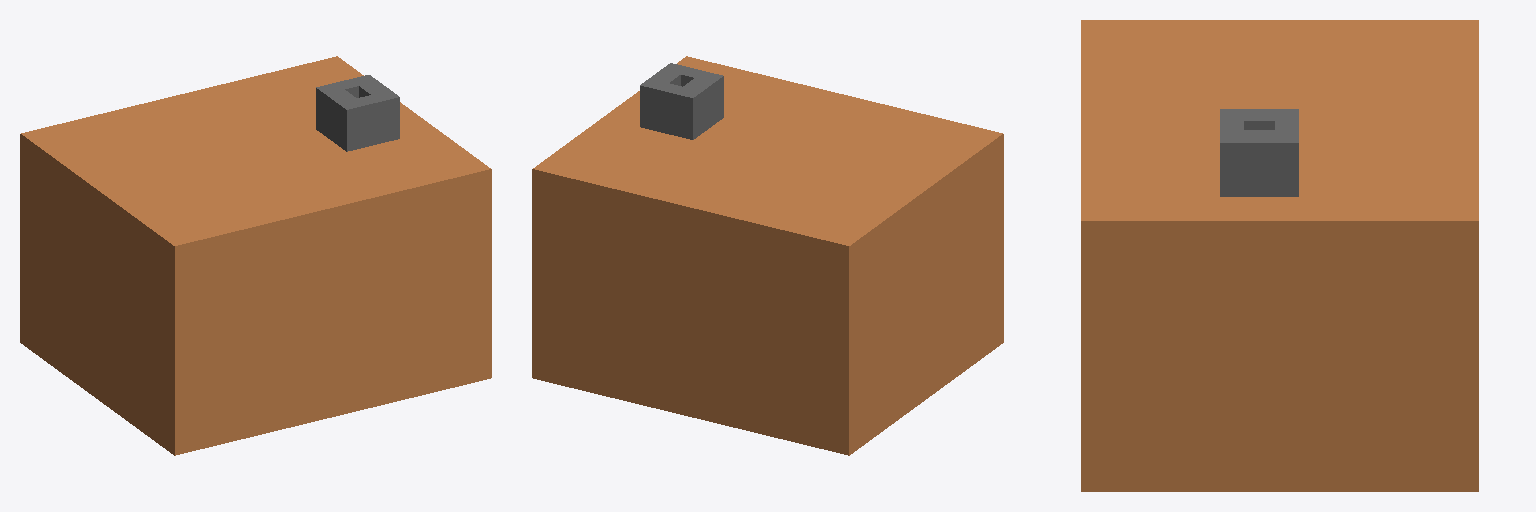
robot.urdf — peg_in_hole_scene_0014_tol04:
<?xml version="1.0"?>
<robot name="peg_in_hole_scene_0014_tol04">
  <material name="wood"><color rgba="0.82 0.56 0.35 1.0"/></material>
  <material name="hole_grey"><color rgba="0.4706 0.4706 0.4706 1.0"/></material>
  <link name="box">
    <visual>
      <origin xyz="0.000000 0.000000 0.000000" rpy="0 0 0"/>
      <geometry><box size="0.475000 0.400000 0.300000"/></geometry>
      <material name="wood"/>
    </visual>
    <collision>
      <origin xyz="0.000000 0.000000 0.000000" rpy="0 0 0"/>
      <geometry><box size="0.475000 0.400000 0.300000"/></geometry>
    </collision>
    <visual>
      <origin xyz="0.140983 -0.020629 0.155000" rpy="0 0 0"/>
      <geometry><box size="0.080000 0.080000 0.010000"/></geometry>
      <material name="hole_grey"/>
    </visual>
    <collision>
      <origin xyz="0.140983 -0.020629 0.155000" rpy="0 0 0"/>
      <geometry><box size="0.080000 0.080000 0.010000"/></geometry>
    </collision>
    <visual>
      <origin xyz="0.166283 -0.020629 0.185000" rpy="0 0 0"/>
      <geometry><box size="0.029400 0.080000 0.050000"/></geometry>
      <material name="hole_grey"/>
    </visual>
    <collision>
      <origin xyz="0.166283 -0.020629 0.185000" rpy="0 0 0"/>
      <geometry><box size="0.029400 0.080000 0.050000"/></geometry>
    </collision>
    <visual>
      <origin xyz="0.115683 -0.020629 0.185000" rpy="0 0 0"/>
      <geometry><box size="0.029400 0.080000 0.050000"/></geometry>
      <material name="hole_grey"/>
    </visual>
    <collision>
      <origin xyz="0.115683 -0.020629 0.185000" rpy="0 0 0"/>
      <geometry><box size="0.029400 0.080000 0.050000"/></geometry>
    </collision>
    <visual>
      <origin xyz="0.140983 0.007171 0.185000" rpy="0 0 0"/>
      <geometry><box size="0.021199 0.024400 0.050000"/></geometry>
      <material name="hole_grey"/>
    </visual>
    <collision>
      <origin xyz="0.140983 0.007171 0.185000" rpy="0 0 0"/>
      <geometry><box size="0.021199 0.024400 0.050000"/></geometry>
    </collision>
    <visual>
      <origin xyz="0.140983 -0.048429 0.185000" rpy="0 0 0"/>
      <geometry><box size="0.021199 0.024400 0.050000"/></geometry>
      <material name="hole_grey"/>
    </visual>
    <collision>
      <origin xyz="0.140983 -0.048429 0.185000" rpy="0 0 0"/>
      <geometry><box size="0.021199 0.024400 0.050000"/></geometry>
    </collision>
    <inertial>
      <mass value="500"/>
      <friction value="1.0"/>
      <inertia ixx="1000.0" ixy="0.0" ixz="0.0" iyy="1000.0" iyz="0.0" izz="1000.0"/>
    </inertial>
  </link>
</robot>

--- Facts derived from the render (not from the file) ---
Views: 3 orthographic renders of the robot side by side, from view 1: azimuth 30°, elevation 25°; view 2: azimuth 150°, elevation 25°; view 3: azimuth 270°, elevation 25°.
Model peg_in_hole_scene_0014_tol04 with 1 links and 0 joints (none), rooted at box, posed all joints at 0.
Links seen in each view (by area): view 1: box; view 2: box; view 3: box.
Link boxes in pixels (x1,y1,x2,y2): box: (20, 56, 491, 455); box: (532, 56, 1003, 455); box: (1081, 20, 1478, 491).
Bounding box of the posed robot: 0.475 × 0.4 × 0.36 m (x, y, z).
Geometry: primitives only (box / cylinder / sphere), no mesh files.
